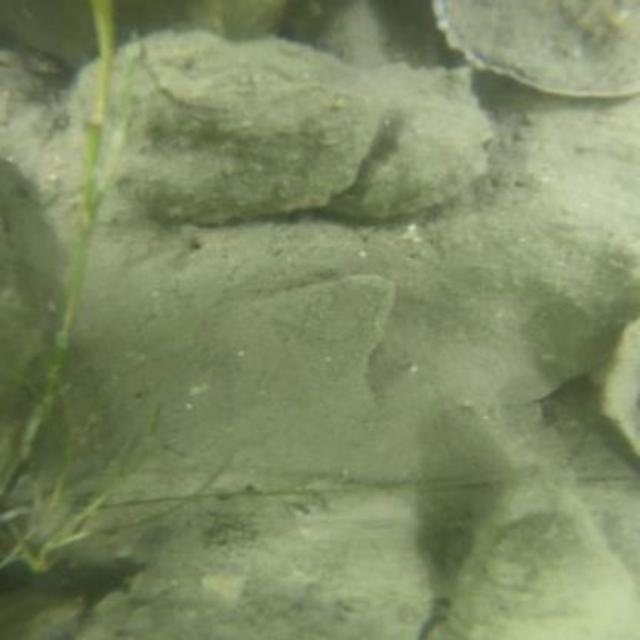Oyster-Closed: (60, 34, 378, 224), (428, 485, 640, 640), (339, 59, 489, 216), (605, 319, 637, 450)
